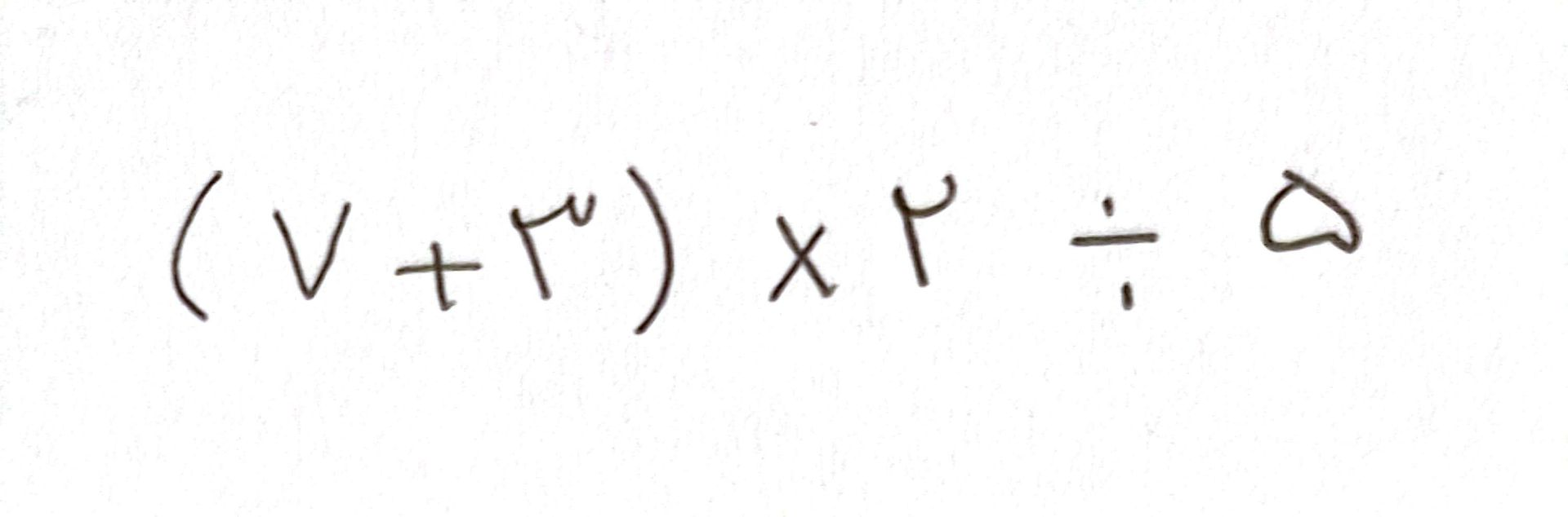character: (1070, 195, 1157, 310), (510, 191, 596, 299), (171, 168, 227, 321), (272, 199, 353, 304), (1259, 168, 1362, 250), (626, 164, 675, 334), (893, 173, 959, 286), (394, 241, 482, 310), (769, 214, 836, 300)
